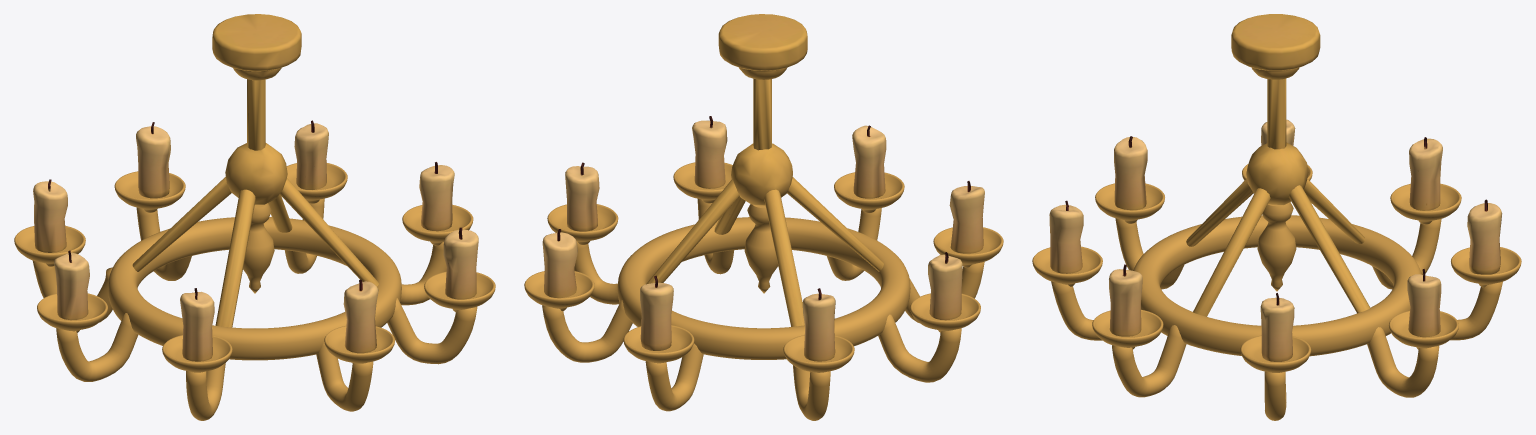
Rendered from brass_chandelier_v3.glb.
3 renders of one model, left to right at view 1: azimuth 30°, elevation 25°; view 2: azimuth 150°, elevation 25°; view 3: azimuth 270°, elevation 25°, orthographic.
Visible parts, largest first — view 1: chandelier_mesh; view 2: chandelier_mesh; view 3: chandelier_mesh.
Boxes of the visible parts, <box> form: chandelier_mesh: <box>14,14,495,420</box>; chandelier_mesh: <box>524,14,1003,420</box>; chandelier_mesh: <box>1032,14,1521,420</box>.
Size of the model in its own units: 3.16 by 2.22 by 3.16.
Materials: 2 (1 with a texture image).
